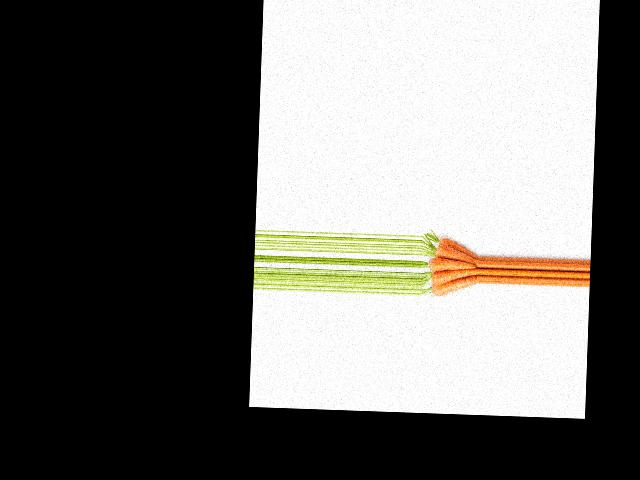carrot: (438, 232, 478, 259)
